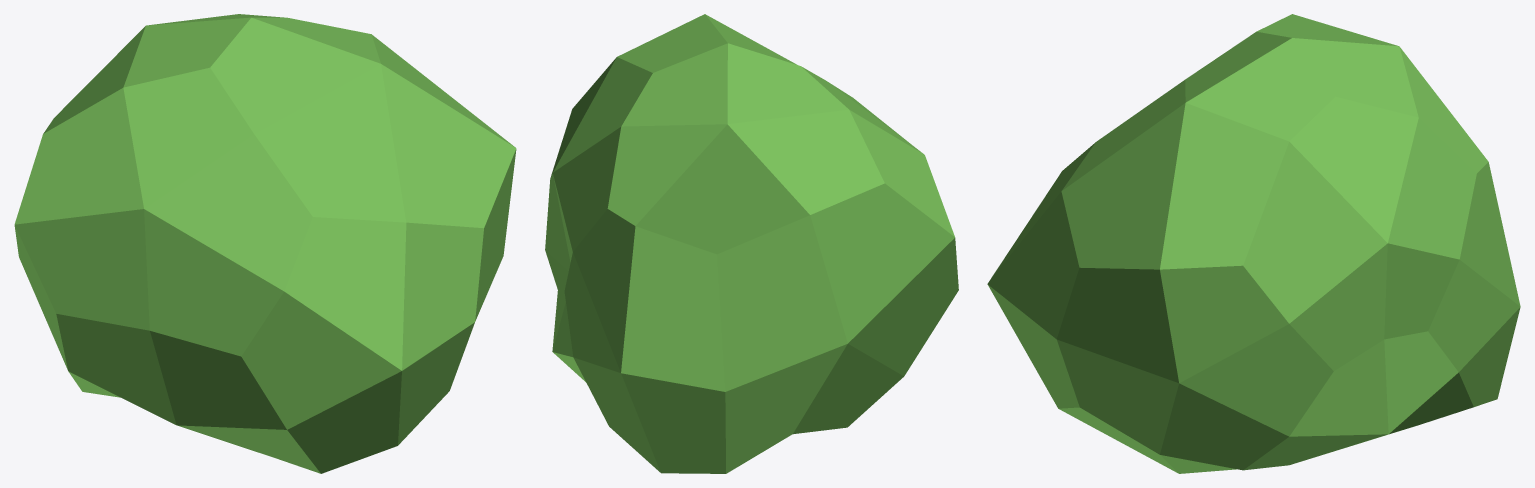
Rendered from O_Enviroment_Bush_2.fbx.
3 renders of one model, left to right at view 1: azimuth 30°, elevation 25°; view 2: azimuth 150°, elevation 25°; view 3: azimuth 270°, elevation 25°, orthographic. The views are drawn at different scales.
Parts seen in each view (by area): view 1: pPlatonic2; view 2: pPlatonic2; view 3: pPlatonic2.
Boxes of the visible parts, x1,y1,x2,y2 form: pPlatonic2: [14, 14, 516, 473]; pPlatonic2: [545, 14, 958, 473]; pPlatonic2: [987, 14, 1520, 473].
Bounding box in the file's own units: 3.04 × 2.68 × 3.17.
